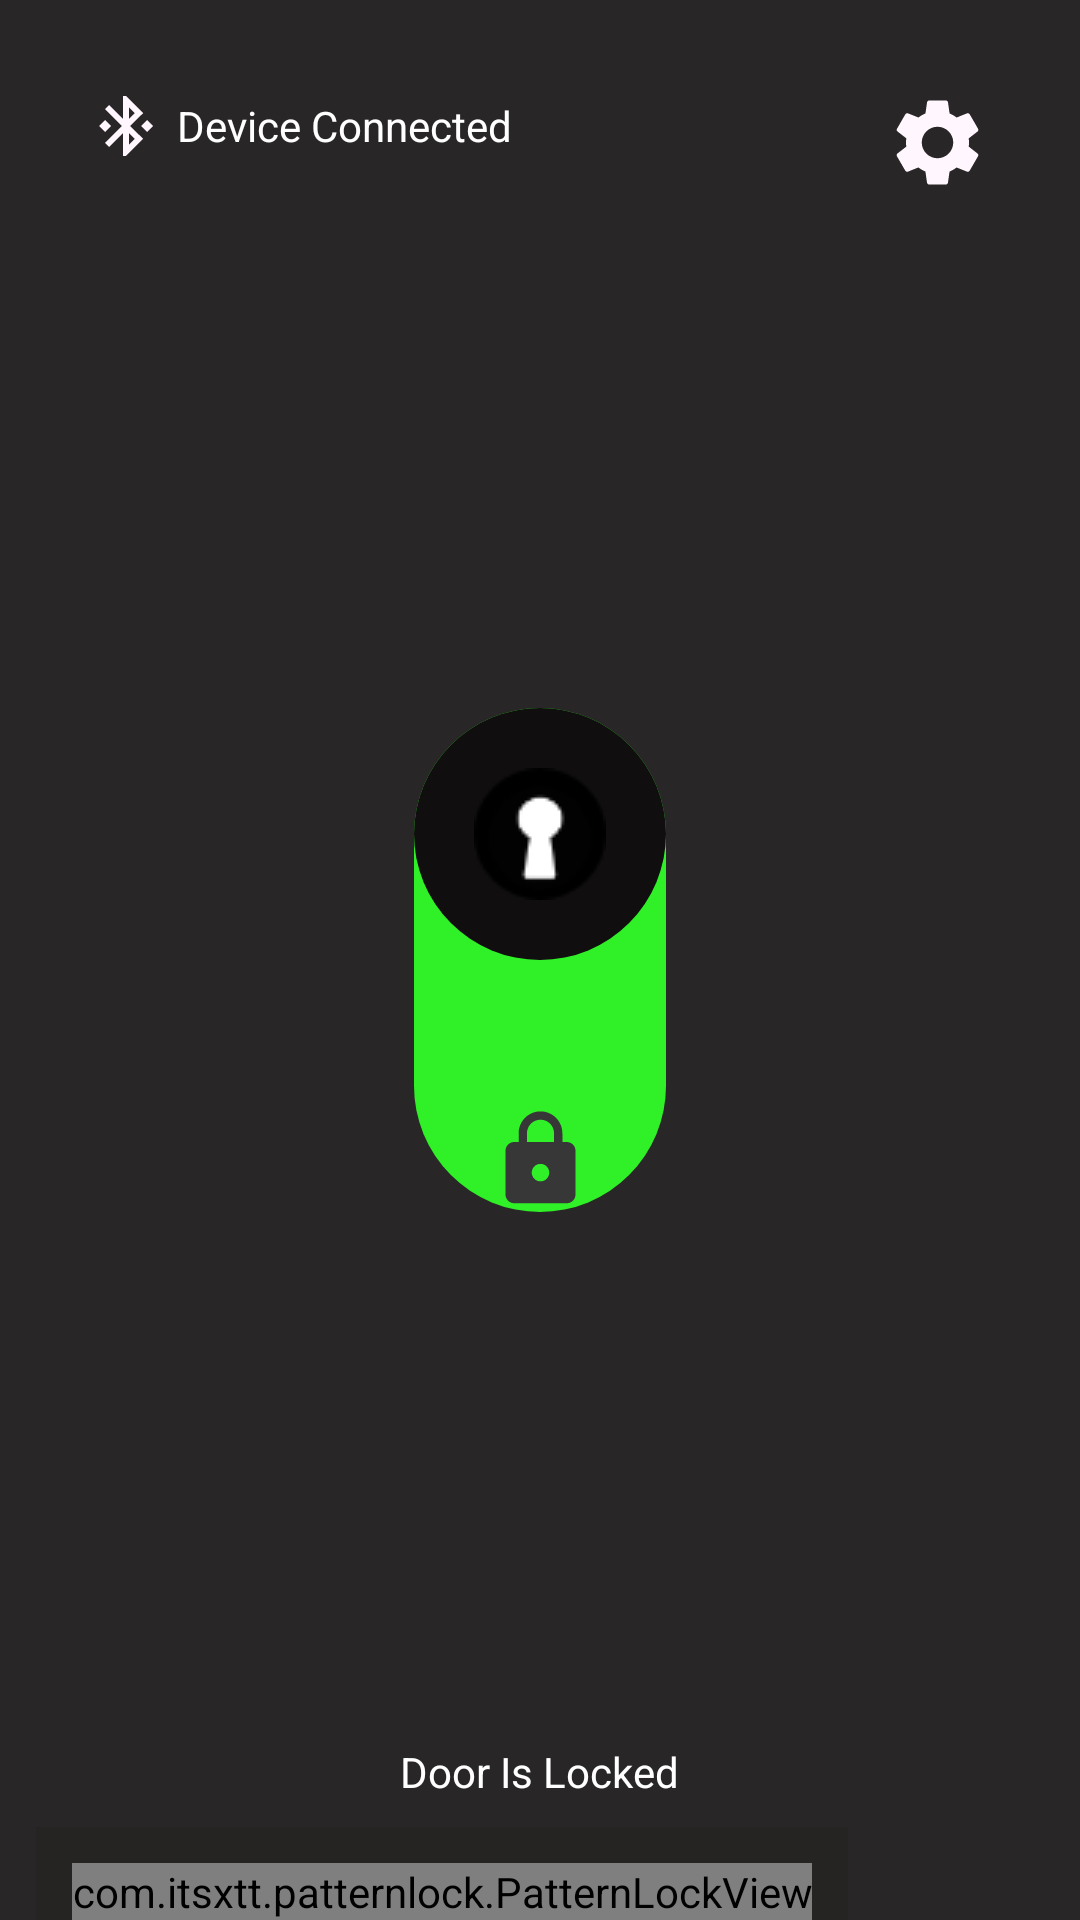

Named icons in this screenshot (1080×1920) and their centers, (x=x, y=y):
settings: (x=937, y=142)
